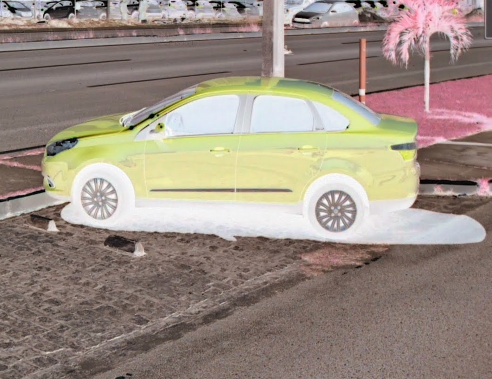car: (39, 74, 422, 240)
